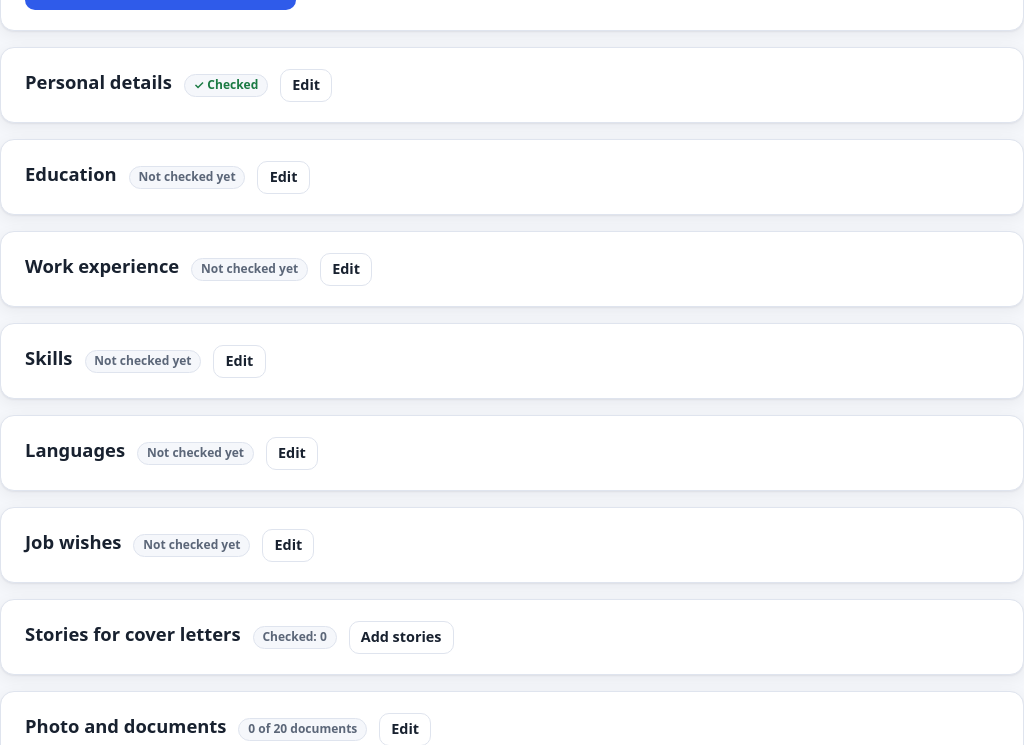
ProfilePage › shows what is missing and opens a section for editing
The width and height of the screenshot is (1024, 745).
(page scrolled)
Click the 4th button "Edit". click: (239,361)
box: [213,345,266,378]
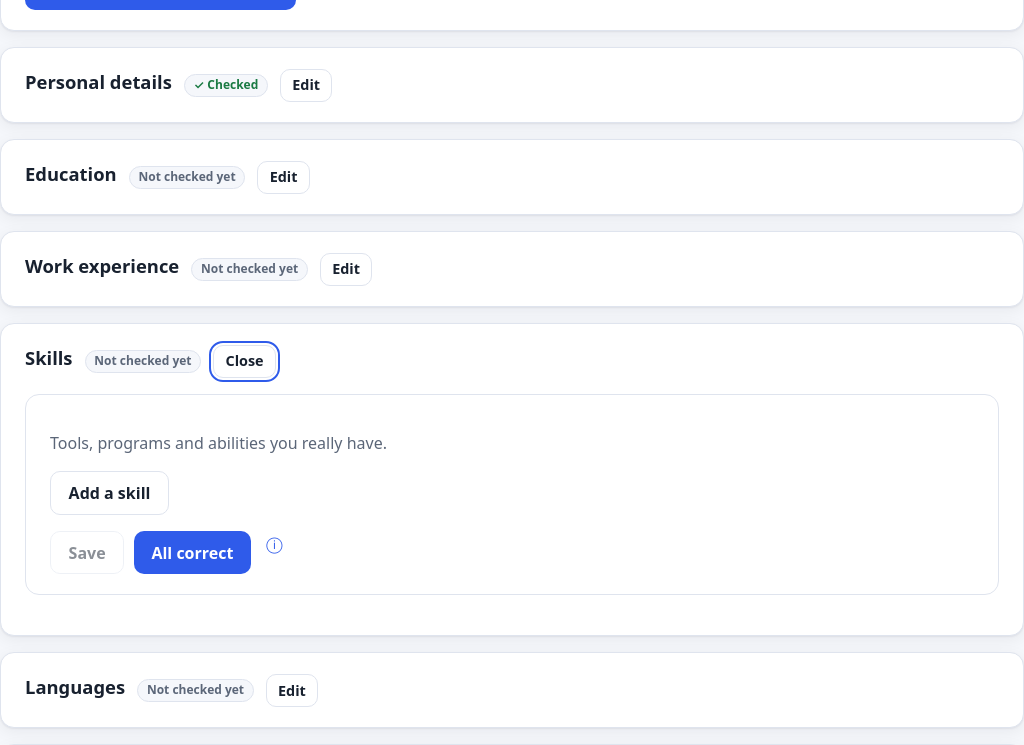
Expected: the button "Add a skill" is shown, [50,471,169,515]
